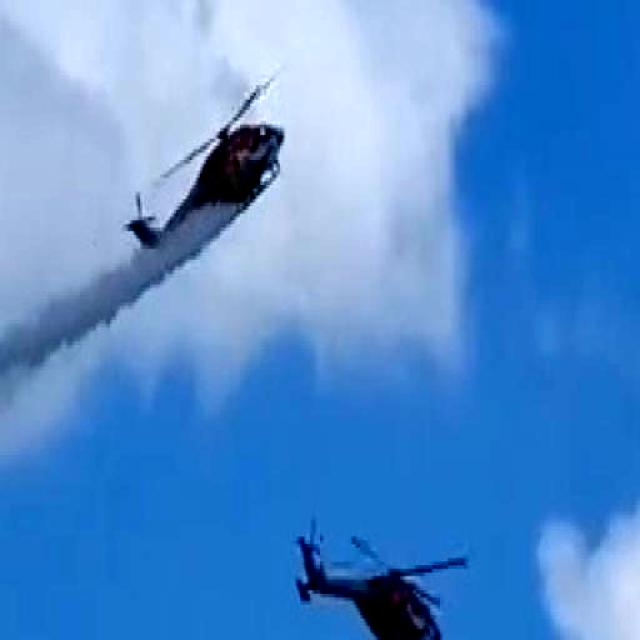drone: (124, 58, 302, 278), (289, 484, 470, 640)
